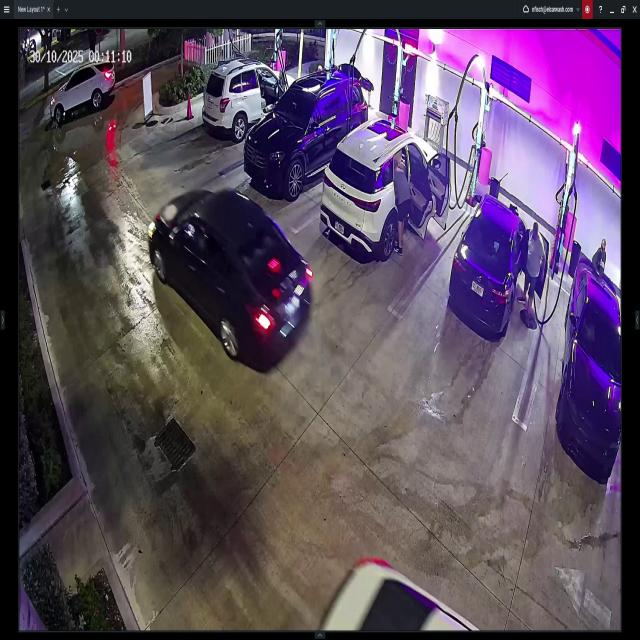Car: (150, 188, 314, 364), (320, 114, 451, 265), (246, 62, 372, 193), (555, 254, 621, 469), (446, 198, 544, 340), (206, 50, 296, 131), (47, 68, 117, 126)
